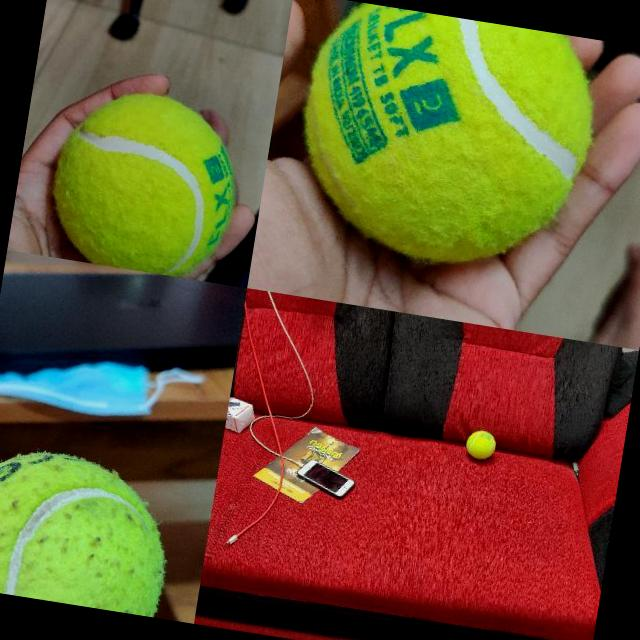Tennis Ball: (285, 0, 605, 281), (42, 81, 247, 283), (0, 438, 182, 617), (463, 428, 498, 462)
